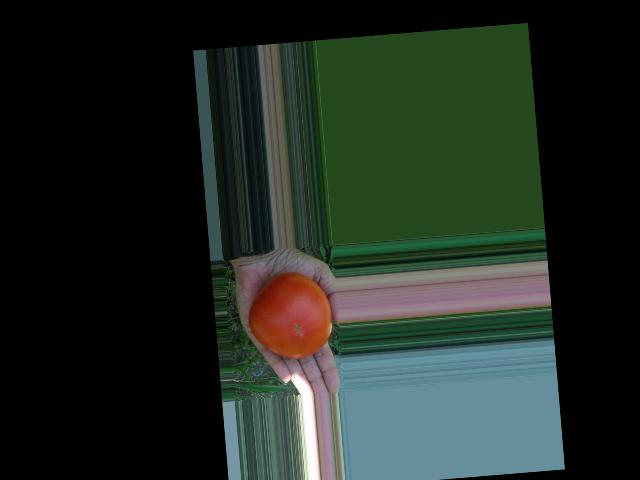tomato: (244, 270, 334, 362)
